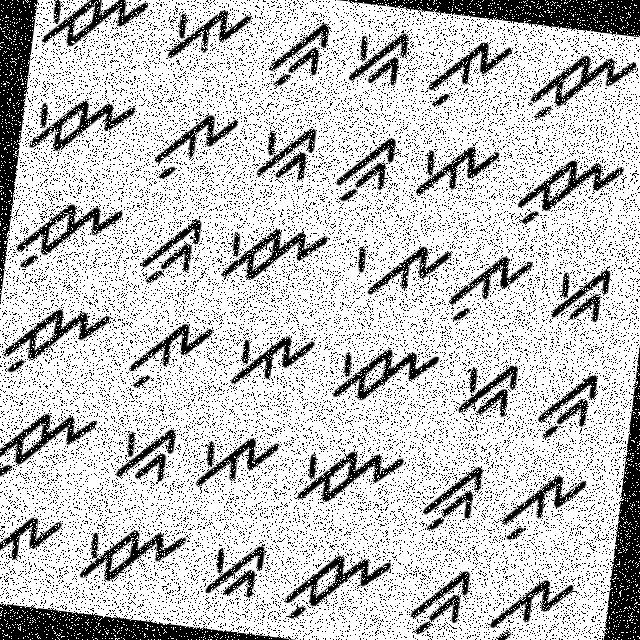e: (340, 223, 453, 314), (156, 0, 258, 86), (186, 419, 284, 505), (408, 128, 501, 215), (222, 318, 320, 396), (0, 498, 67, 585)
ngge: (190, 525, 278, 612), (104, 409, 182, 492), (343, 12, 412, 98), (541, 253, 614, 334), (451, 350, 524, 424), (250, 114, 320, 190)
nggu: (324, 120, 400, 212), (260, 6, 332, 102), (416, 456, 491, 542), (531, 366, 606, 450), (135, 208, 205, 296), (400, 562, 477, 639)
nje: (205, 206, 337, 297), (23, 73, 140, 171), (321, 328, 445, 416), (72, 512, 190, 598), (289, 436, 411, 519), (35, 0, 158, 70)
nju: (507, 142, 630, 248), (11, 182, 130, 288), (526, 41, 639, 145), (275, 538, 394, 635), (0, 297, 112, 390), (0, 398, 103, 498)
u: (147, 96, 244, 197), (420, 26, 519, 122), (495, 458, 594, 553), (119, 312, 218, 398), (446, 240, 536, 334), (480, 561, 581, 639)
